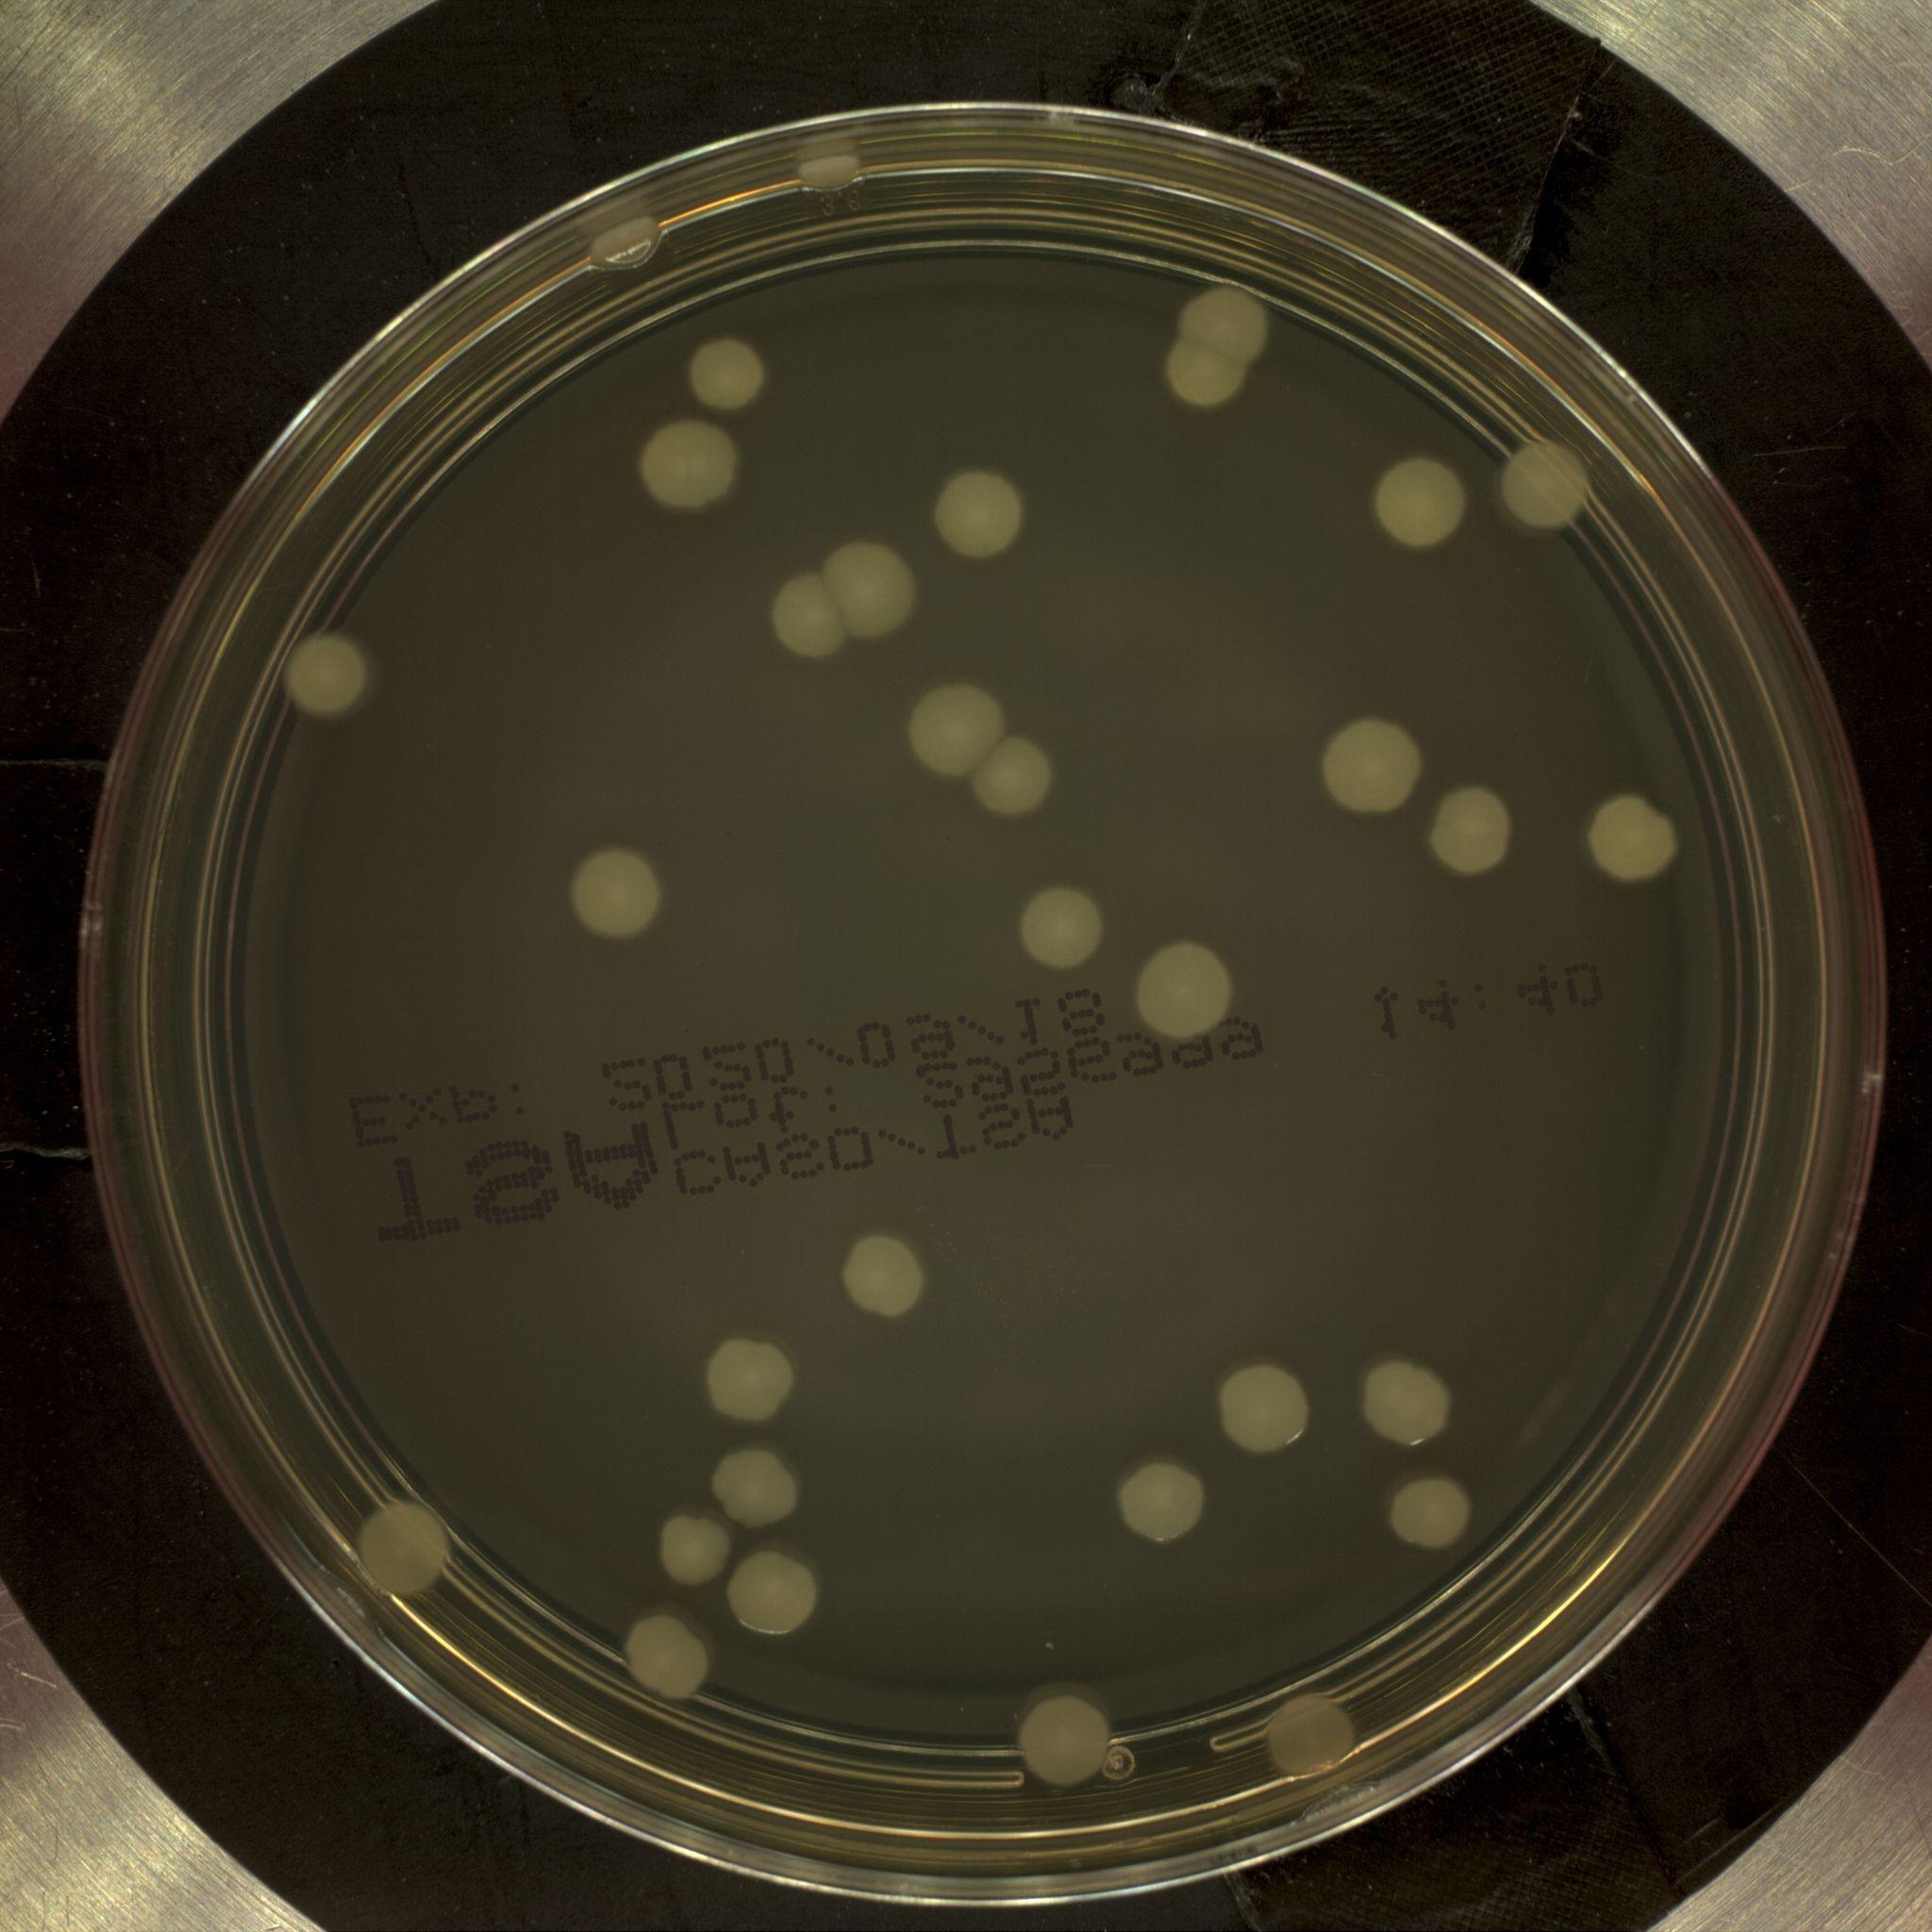e. coli: (1162, 285, 1267, 405), (823, 533, 927, 644), (276, 614, 379, 724), (1132, 936, 1235, 1039), (699, 1334, 801, 1437), (1012, 1688, 1113, 1792), (1322, 717, 1428, 816), (621, 1606, 722, 1709), (906, 674, 1003, 780), (359, 1495, 458, 1594), (1219, 1359, 1316, 1458), (1260, 1688, 1359, 1785), (637, 410, 736, 508), (1591, 791, 1688, 890), (1500, 433, 1596, 531), (722, 1543, 826, 1631), (1359, 1355, 1458, 1447), (1116, 1454, 1208, 1552), (964, 734, 1058, 823), (577, 847, 663, 943), (934, 469, 1030, 554), (1380, 458, 1467, 550), (1017, 883, 1108, 970), (706, 1444, 803, 1523), (840, 1231, 927, 1320), (1431, 786, 1511, 879), (1389, 1474, 1476, 1559), (770, 571, 851, 658), (683, 333, 771, 409), (656, 1504, 732, 1587), (584, 200, 663, 269)
